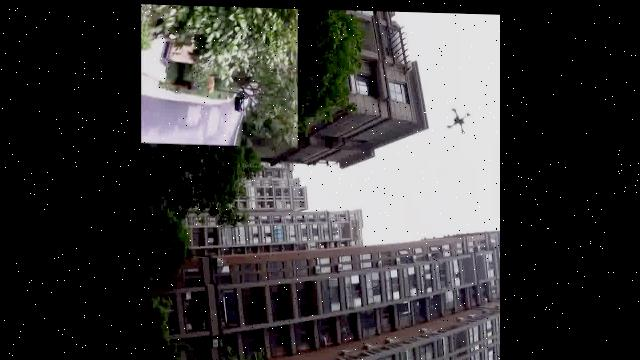drone: (443, 99, 477, 146)
